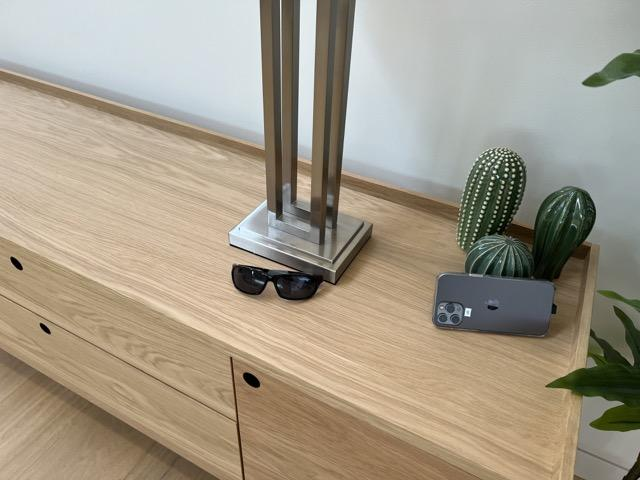Sunglasses: (232, 262, 326, 301)
